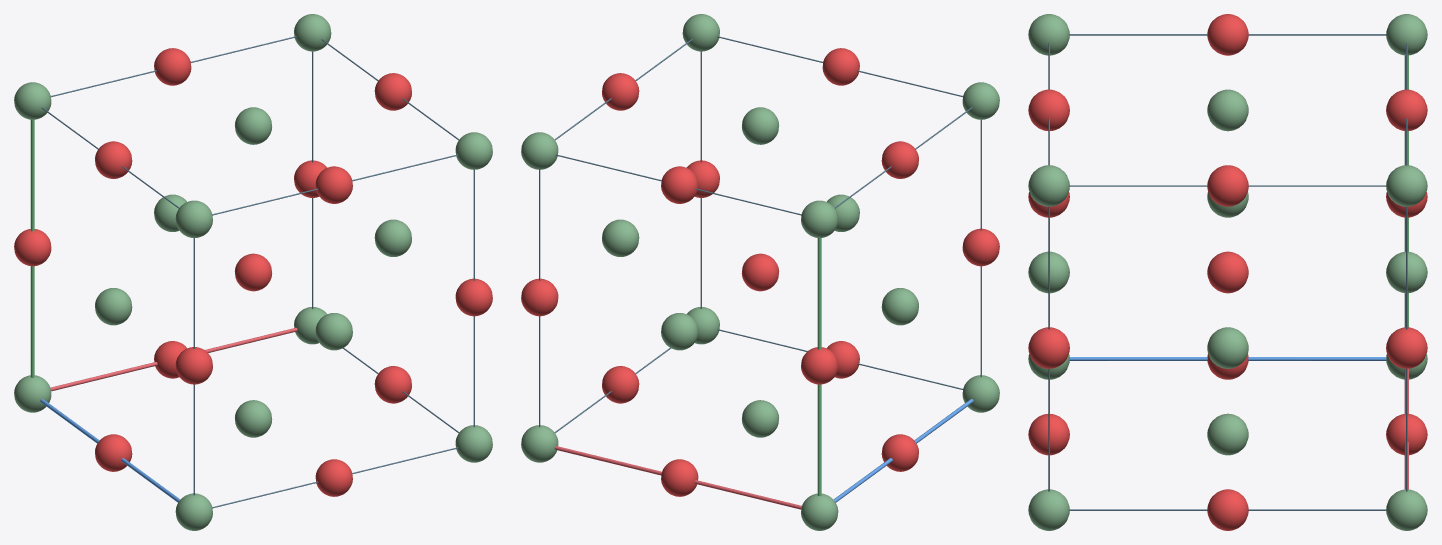
File: chat-barium-oxide.glb
The picture shows the model from 3 angles, left to right: view 1: azimuth 30°, elevation 25°; view 2: azimuth 150°, elevation 25°; view 3: azimuth 270°, elevation 25°; orthographic projection. The views are drawn at different scales.
Parts seen in each view (by area): view 1: Ba1 · Ba · 1 (×14), O1 · O · 1 (×13), Ô mạng và các trục a, b, c; view 2: Ba1 · Ba · 1 (×14), O1 · O · 1 (×13), Ô mạng và các trục a, b, c; view 3: Ba1 · Ba · 1 (×13), O1 · O · 1 (×13), Ô mạng và các trục a, b, c.
Part boxes in pixels (<box>): Ba1 · Ba · 1 (×14): <box>14,14,492,530</box>; O1 · O · 1 (×13): <box>14,48,492,496</box>; Ô mạng và các trục a, b, c: <box>30,36,474,508</box>; Ba1 · Ba · 1 (×14): <box>521,14,999,530</box>; O1 · O · 1 (×13): <box>521,48,999,496</box>; Ô mạng và các trục a, b, c: <box>539,36,981,509</box>; Ba1 · Ba · 1 (×13): <box>1028,14,1427,530</box>; O1 · O · 1 (×13): <box>1028,14,1427,530</box>; Ô mạng và các trục a, b, c: <box>1048,34,1408,510</box>.
Bounding box in the file's own units: 6.14 × 6.14 × 6.14.
